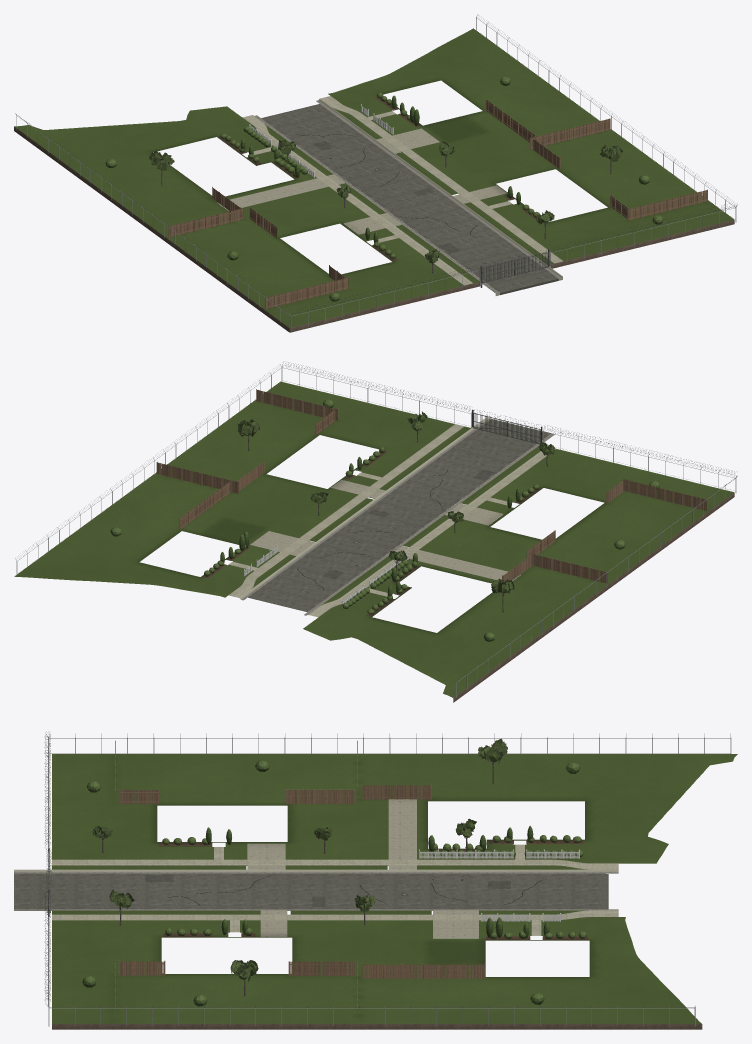
Rendered from street_out-low.glb.
3 views of the same model, one above another, from view 1: azimuth 30°, elevation 25°; view 2: azimuth 150°, elevation 25°; view 3: azimuth 270°, elevation 25° (orthographic). The views are drawn at different scales.
Visible parts, largest first — view 1: so_lawn, so_asphalt, so_privacy, so_walk, so_skirt, so_parkway, so_shrub, so_drive, so_galv, so_privacy_frame, so_leafcard, so_gutter (+3 smaller); view 2: so_lawn, so_asphalt, so_privacy, so_walk, so_parkway, so_shrub, so_drive, so_galv, so_skirt, so_gutter, so_leafcard, so_curb (+3 smaller); view 3: so_lawn, so_asphalt, so_walk, so_privacy, so_parkway, so_skirt, so_shrub, so_drive, so_galv, so_curb, so_gutter, so_wire (+7 smaller).
Part boxes in pixels (<box>): so_lawn: <box>14,28,733,327</box>; so_asphalt: <box>261,104,558,294</box>; so_privacy: <box>169,100,706,308</box>; so_walk: <box>242,96,562,285</box>; so_skirt: <box>14,126,734,332</box>; so_parkway: <box>265,108,553,283</box>; so_shrub: <box>105,76,663,301</box>; so_drive: <box>217,128,506,234</box>; so_galv: <box>15,14,737,330</box>; so_privacy_frame: <box>168,99,707,309</box>; so_leafcard: <box>149,140,622,262</box>; so_gutter: <box>255,100,560,293</box>; so_lawn: <box>14,381,733,698</box>; so_asphalt: <box>248,419,551,612</box>; so_privacy: <box>157,389,706,583</box>; so_walk: <box>228,424,556,617</box>; so_parkway: <box>252,426,539,605</box>; so_shrub: <box>110,399,660,641</box>; so_drive: <box>250,480,520,580</box>; so_galv: <box>15,364,737,697</box>; so_skirt: <box>453,492,734,702</box>; so_gutter: <box>242,418,553,615</box>; so_leafcard: <box>237,411,555,593</box>; so_curb: <box>239,417,555,615</box>; so_lawn: <box>52,754,737,1023</box>; so_asphalt: <box>14,873,608,909</box>; so_walk: <box>52,844,618,935</box>; so_privacy: <box>119,785,484,978</box>; so_parkway: <box>52,865,585,914</box>; so_skirt: <box>52,1024,702,1029</box>; so_shrub: <box>82,760,586,1006</box>; so_drive: <box>247,799,478,937</box>; so_galv: <box>46,733,731,1026</box>; so_curb: <box>14,869,618,910</box>; so_gutter: <box>14,872,618,910</box>; so_wire: <box>44,734,730,1007</box>.
Bounding box in the file's own units: 72.63 × 6.31 × 81.58.
Materials: 21 (19 with a texture image).
